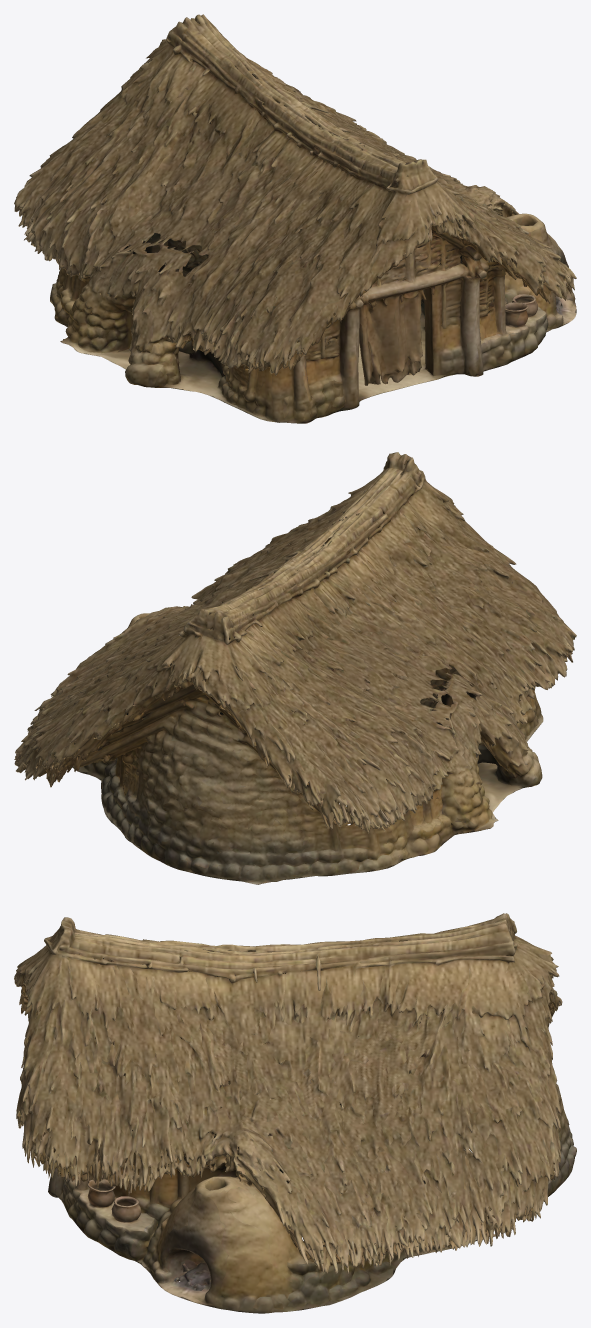
File: pottery_kiln.glb
3 renders of one model, top to bottom at view 1: azimuth 30°, elevation 25°; view 2: azimuth 150°, elevation 25°; view 3: azimuth 270°, elevation 25°, orthographic. The views are drawn at different scales.
Visible parts, largest first — view 1: world; view 2: world; view 3: world.
Part boxes in pixels (x1,y1,x2,y2): world: (14, 14, 576, 423); world: (14, 452, 576, 884); world: (14, 913, 576, 1313).
Size of the model in its own units: 0.9944 by 0.5235 by 0.9877.
Materials: 1 (1 with a texture image).
